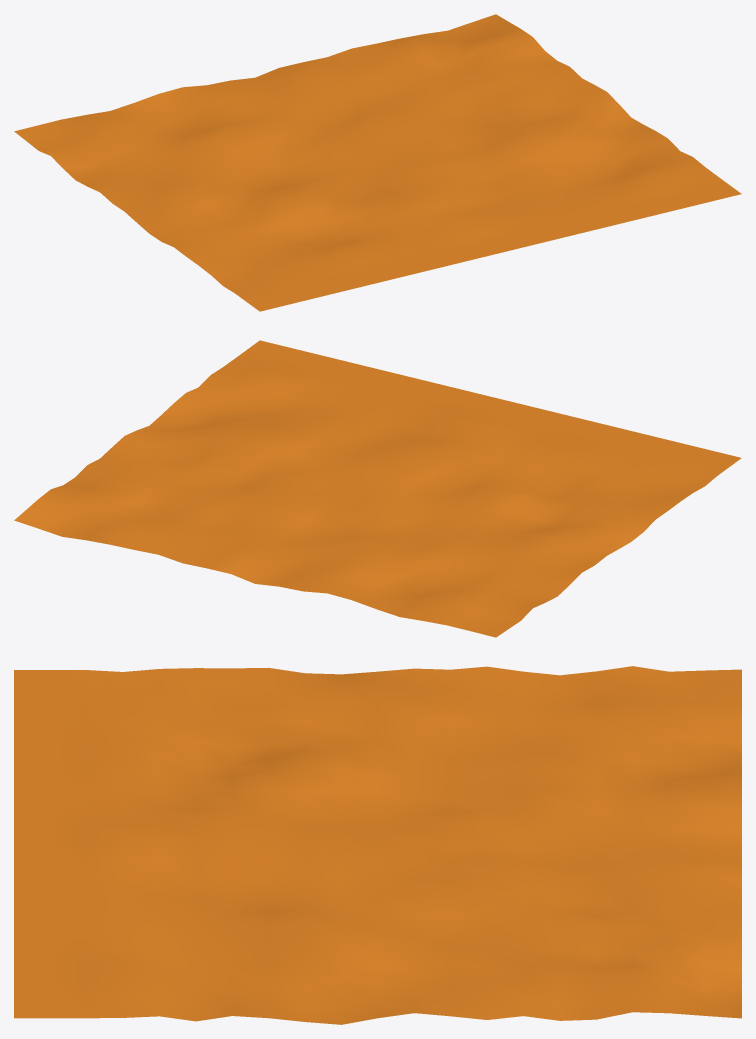
File: playa.FBX
3 views of the same model, one above another, from view 1: azimuth 30°, elevation 25°; view 2: azimuth 150°, elevation 25°; view 3: azimuth 270°, elevation 25° (orthographic). The views are drawn at different scales.
Visible parts, largest first — view 1: Plane001; view 2: Plane001; view 3: Plane001.
Boxes of the visible parts, x1,y1,x2,y2 form: Plane001: (14, 14, 741, 311); Plane001: (14, 340, 741, 637); Plane001: (14, 666, 741, 1024).
Size of the model in its own units: 169 by 3.97 by 149.
